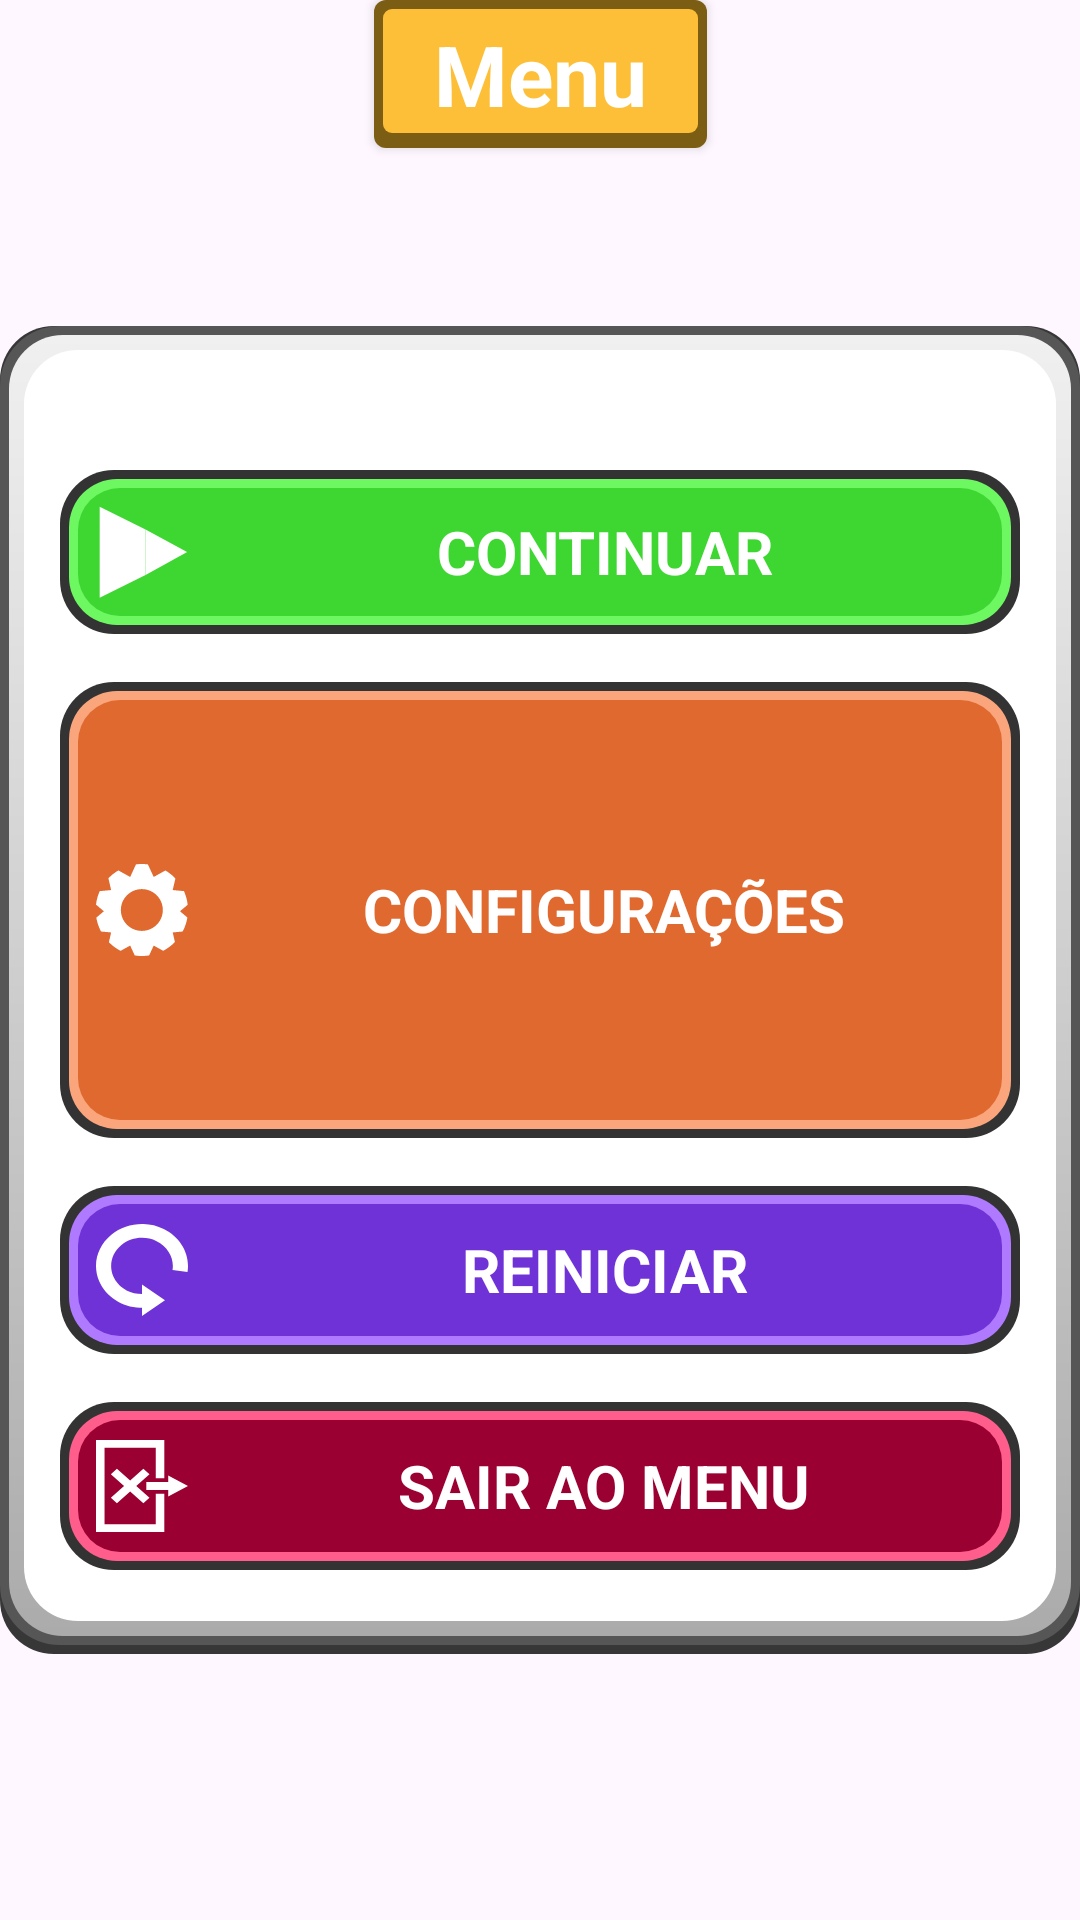

Where to tap for icons on this 1080px x 1920px app screen, as (x=x, y=y):
engrenagem: (x=142, y=910)
exit: (x=142, y=1486)
play: (x=143, y=552)
retry: (x=142, y=1270)
